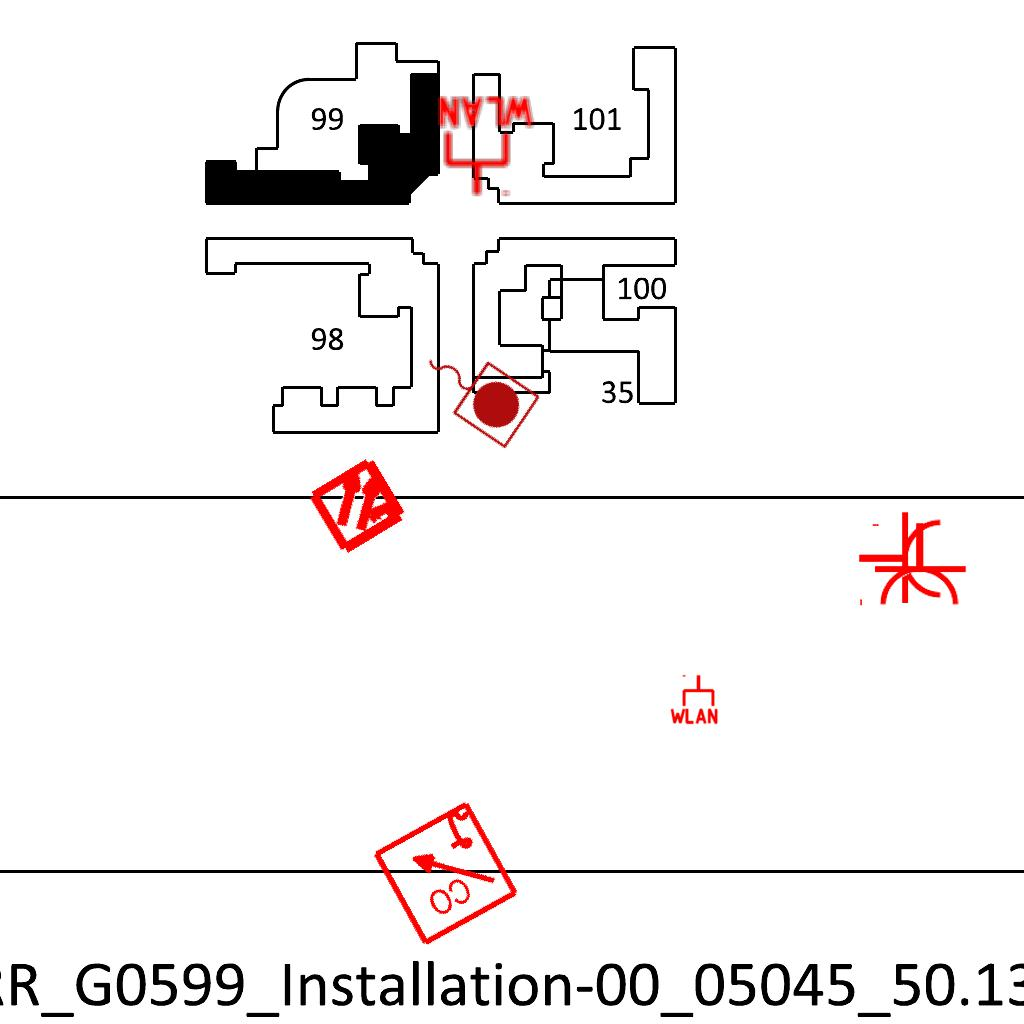OT_Multisensormelder_(Kombination_RMO_WMD): (281, 426, 438, 583)
ROA_Rauchmelder_optisch_mit_Signalgeber_(Sockelsirene): (367, 795, 522, 950)
Schukosteckdose_einfach: (857, 510, 944, 610), (868, 521, 968, 608)
WLAN: (434, 94, 538, 199), (668, 673, 720, 725)
Zugtaster: (405, 326, 547, 454)
